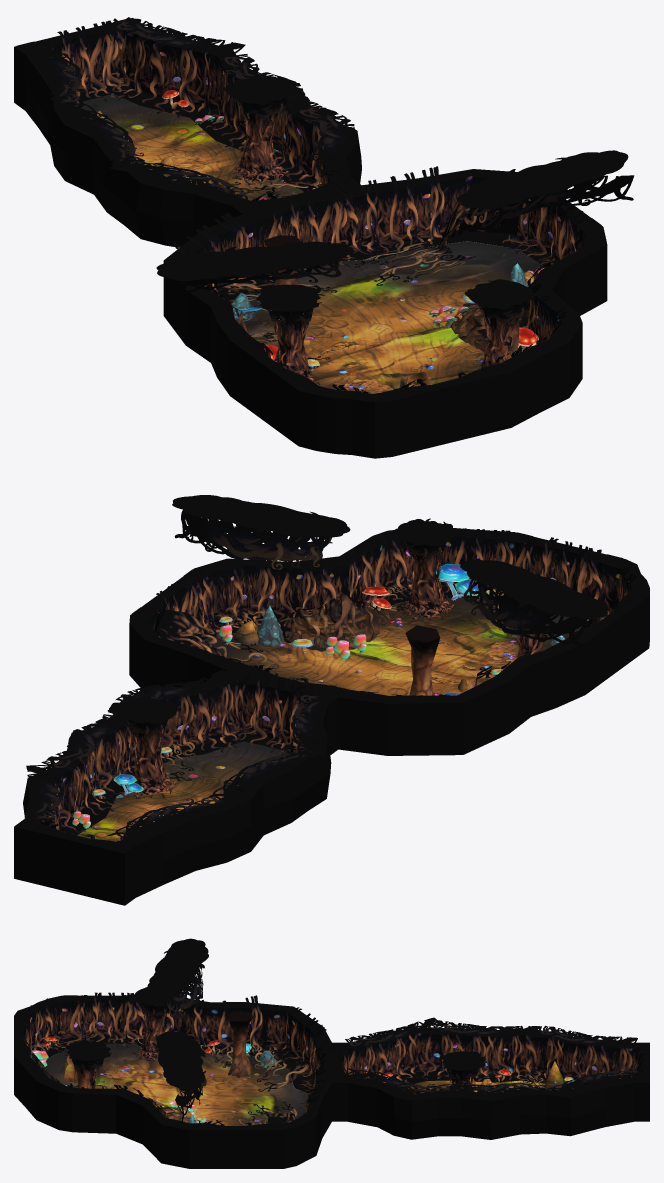
3 renders of one model, top to bottom at view 1: azimuth 30°, elevation 25°; view 2: azimuth 150°, elevation 25°; view 3: azimuth 270°, elevation 25°, orthographic. The views are drawn at different scales.
Parts seen in each view (by area): view 1: Dun_021_Room_003_wall, Dun_021_Room_003_ground, Dan1, un_021_Door_002 (×6), Dungeon_021_Object_025, Dungeon_021_Tsuta_002, Dan2, un_021_Door_002_Object1 (×3), Dungeon_021_Tsuta_001, Dungeon_021_Object_021, Dungeon_021_Object_010 (×2), Dungeon_021_Object_011 (×2) (+8 smaller); view 2: Dun_021_Room_003_wall, Dan1, Dungeon_021_Object_025, un_021_Door_002 (×6), Dun_021_Room_003_ground, Dungeon_021_Tsuta_002, Dungeon_021_Object_021, Dan2, un_021_Door_002_Object1 (×3), Dungeon_021_Tsuta_001, Dungeon_021_Object_011 (×2), Dungeon_021_Object_010 (×2) (+9 smaller); view 3: Dan1, Dun_021_Room_003_wall, Dun_021_Room_003_ground, un_021_Door_002 (×6), Dungeon_021_Tsuta_002, Dungeon_021_Object_025, Dungeon_021_Tsuta_001, Dungeon_021_Object_021, un_021_Door_002_Object1 (×2), Dungeon_021_Object_010 (×2), Dungeon_021_Object_022, Dun_011_Room_003_shadow (+6 smaller).
Part boxes in pixels (left/top/right/bottom): Dun_021_Room_003_wall: left=163, top=169, right=607, bottom=458; Dun_021_Room_003_ground: left=235, top=241, right=544, bottom=393; Dan1: left=14, top=18, right=361, bottom=247; un_021_Door_002 (×6): left=17, top=18, right=601, bottom=451; Dungeon_021_Object_025: left=156, top=150, right=634, bottom=297; Dungeon_021_Tsuta_002: left=23, top=17, right=355, bottom=199; Dan2: left=75, top=94, right=303, bottom=200; un_021_Door_002_Object1 (×3): left=45, top=18, right=583, bottom=281; Dungeon_021_Tsuta_001: left=37, top=28, right=342, bottom=199; Dungeon_021_Object_021: left=175, top=166, right=586, bottom=392; Dungeon_021_Object_010 (×2): left=223, top=75, right=534, bottom=323; Dungeon_021_Object_011 (×2): left=228, top=100, right=517, bottom=369; Dun_021_Room_003_wall: left=129, top=528, right=649, bottom=755; Dan1: left=14, top=670, right=338, bottom=905; Dungeon_021_Object_025: left=172, top=495, right=608, bottom=647; un_021_Door_002 (×6): left=17, top=532, right=647, bottom=900; Dun_021_Room_003_ground: left=205, top=598, right=587, bottom=695; Dungeon_021_Tsuta_002: left=26, top=669, right=327, bottom=841; Dungeon_021_Object_021: left=182, top=528, right=636, bottom=696; Dan2: left=77, top=741, right=287, bottom=841; un_021_Door_002_Object1 (×3): left=155, top=536, right=609, bottom=754; Dungeon_021_Tsuta_001: left=37, top=674, right=318, bottom=839; Dungeon_021_Object_011 (×2): left=123, top=545, right=455, bottom=798; Dungeon_021_Object_010 (×2): left=116, top=518, right=455, bottom=739; Dan1: left=332, top=1027, right=649, bottom=1139; Dun_021_Room_003_wall: left=14, top=995, right=331, bottom=1168; Dun_021_Room_003_ground: left=37, top=1043, right=308, bottom=1125; un_021_Door_002 (×6): left=14, top=995, right=649, bottom=1168; Dungeon_021_Tsuta_002: left=342, top=1017, right=641, bottom=1096; Dungeon_021_Object_025: left=147, top=938, right=208, bottom=1121; Dungeon_021_Tsuta_001: left=347, top=1027, right=632, bottom=1094; Dungeon_021_Object_021: left=28, top=995, right=326, bottom=1123; un_021_Door_002_Object1 (×2): left=66, top=992, right=328, bottom=1110; Dungeon_021_Object_010 (×2): left=65, top=1041, right=486, bottom=1081; Dungeon_021_Object_022: left=32, top=1033, right=309, bottom=1091; Dun_011_Room_003_shadow: left=32, top=1038, right=314, bottom=1115.
Size of what is drawn, in the model's own units: 18.45 by 4.55 by 30.
